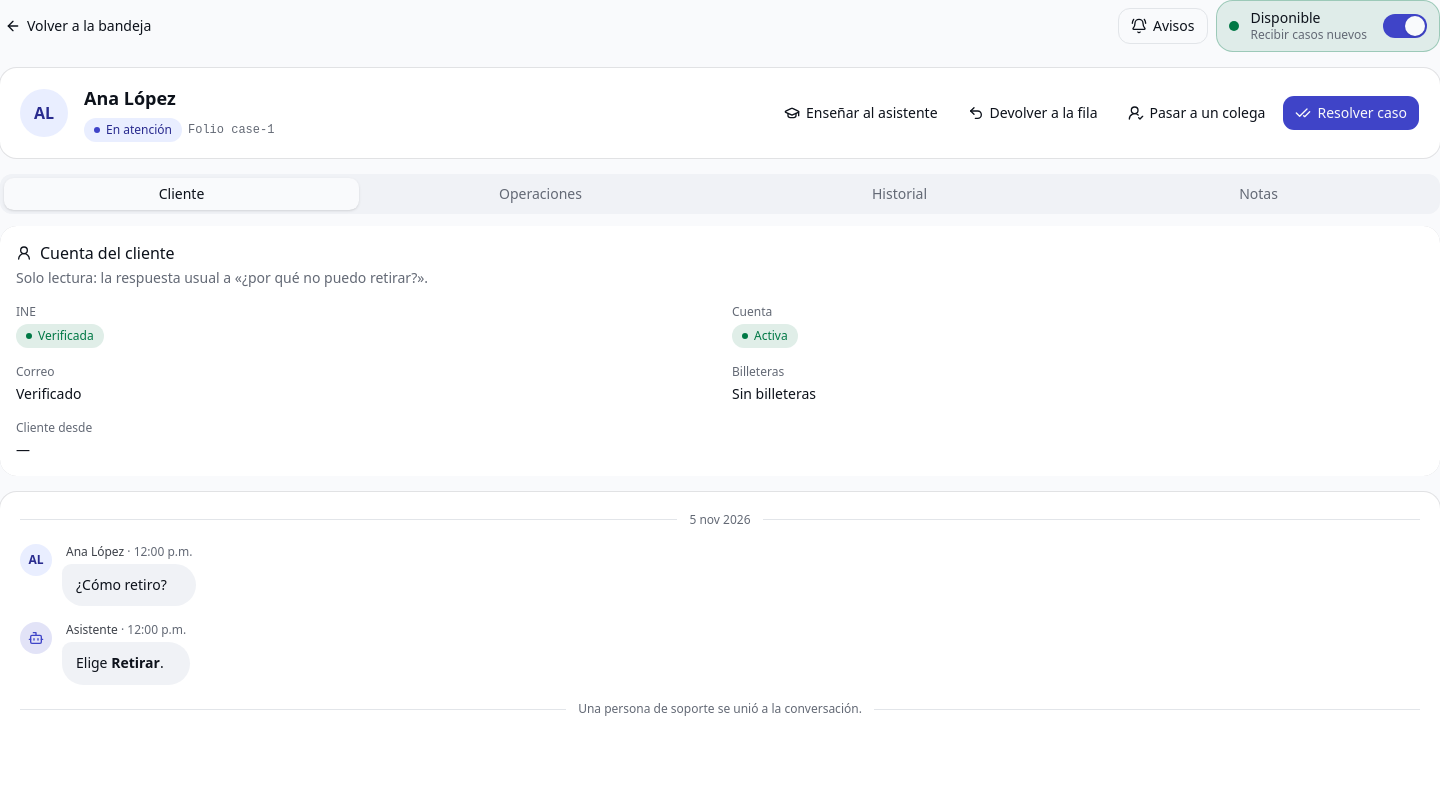
Test case: the customer's operations, for the agent attending them › lists them read only, with status, amount and why one failed
The width and height of the screenshot is (1440, 810).
Click the tab "Operaciones" at (540, 194), box [363,178,718,210]
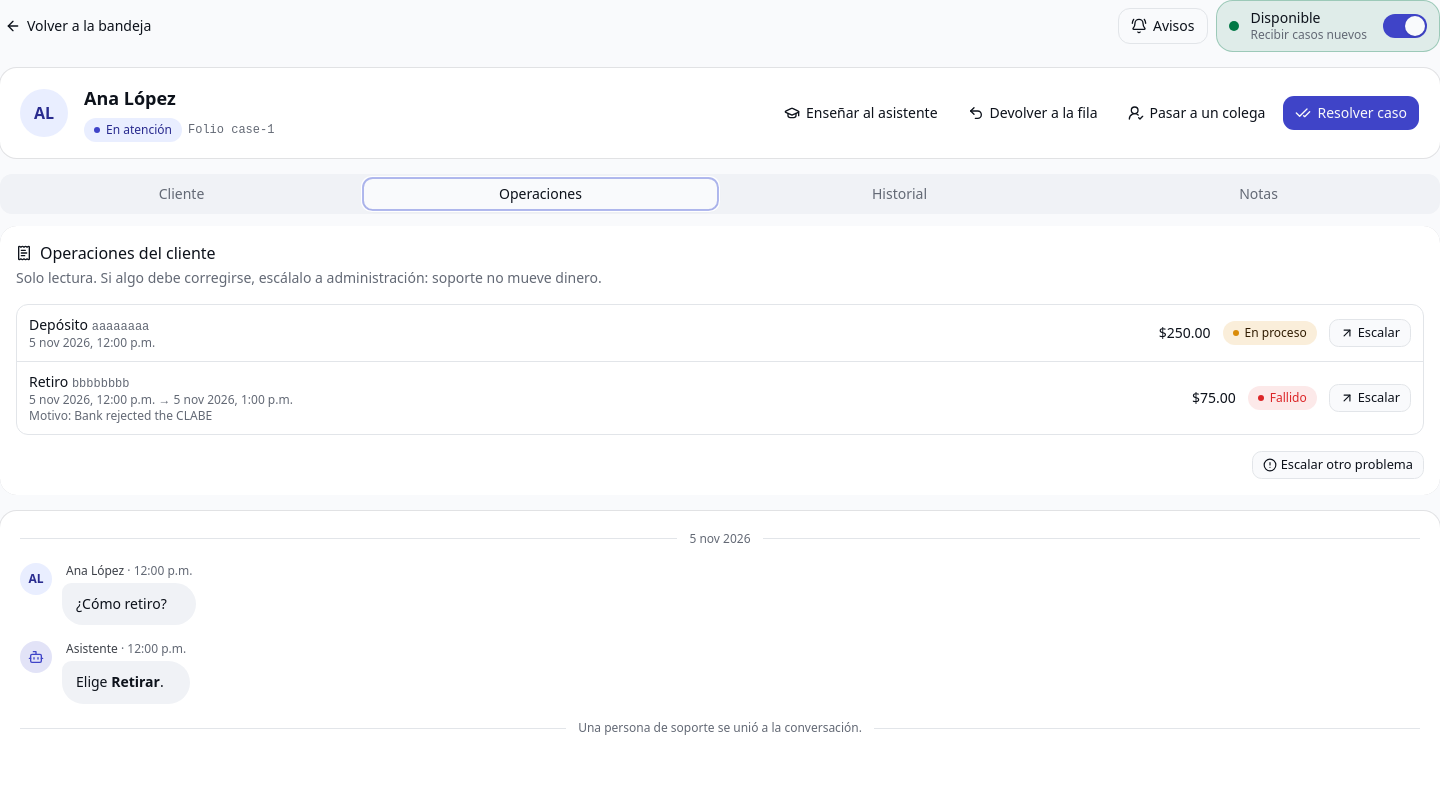
Expected: the text "Depósito" is shown, [29,314,88,334]
Expected: the text "$250.00" is shown, [1159,322,1210,342]
Expected: the text "Fallido" is shown, [1248,386,1317,410]
